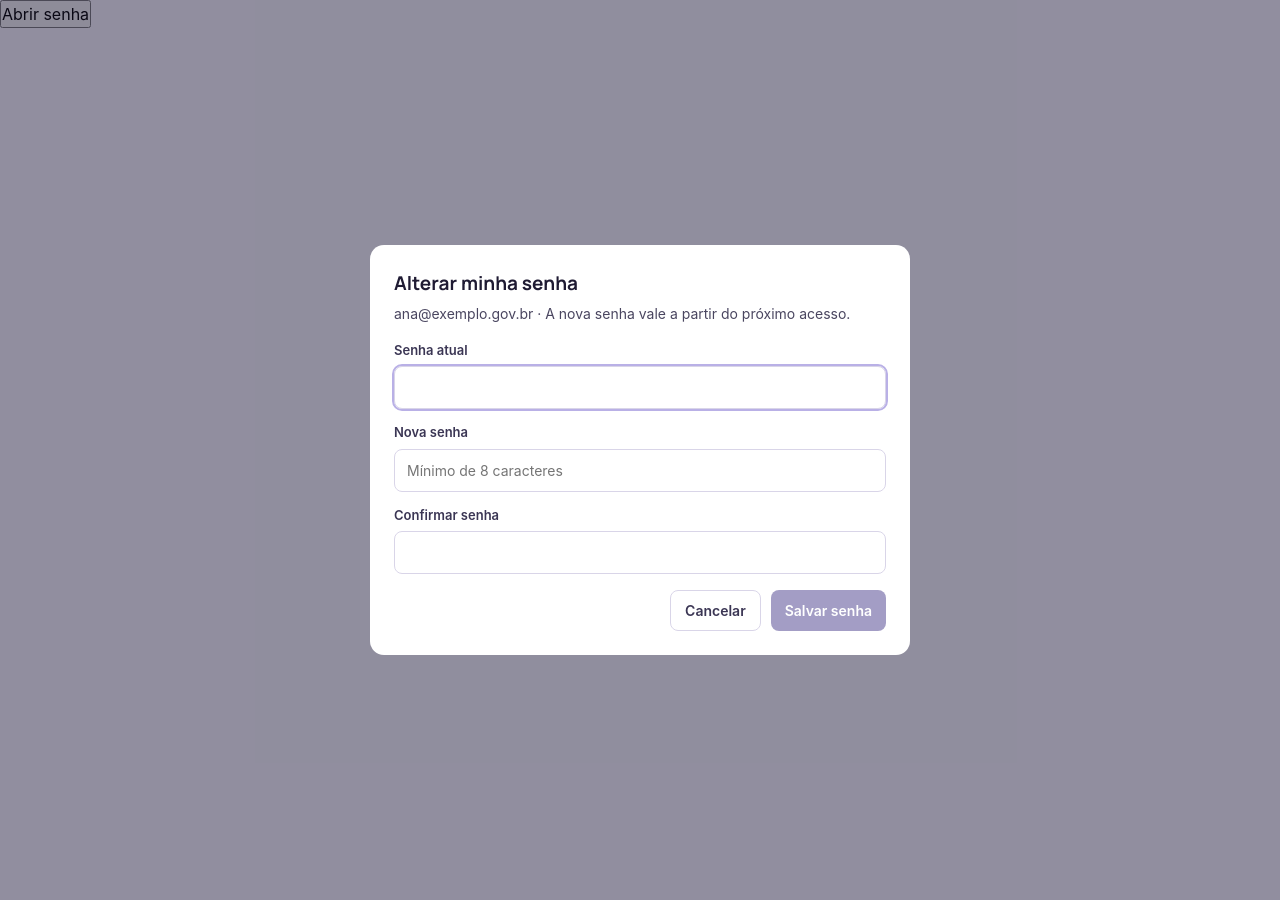
ChangePasswordDialog › fecha e mostra o aviso de sucesso quando a senha é alterada
The image size is (1280, 900).
Step 1. Type "atual-123" into the password field labelled "Senha atual" → (640, 388), box [394, 366, 886, 409]
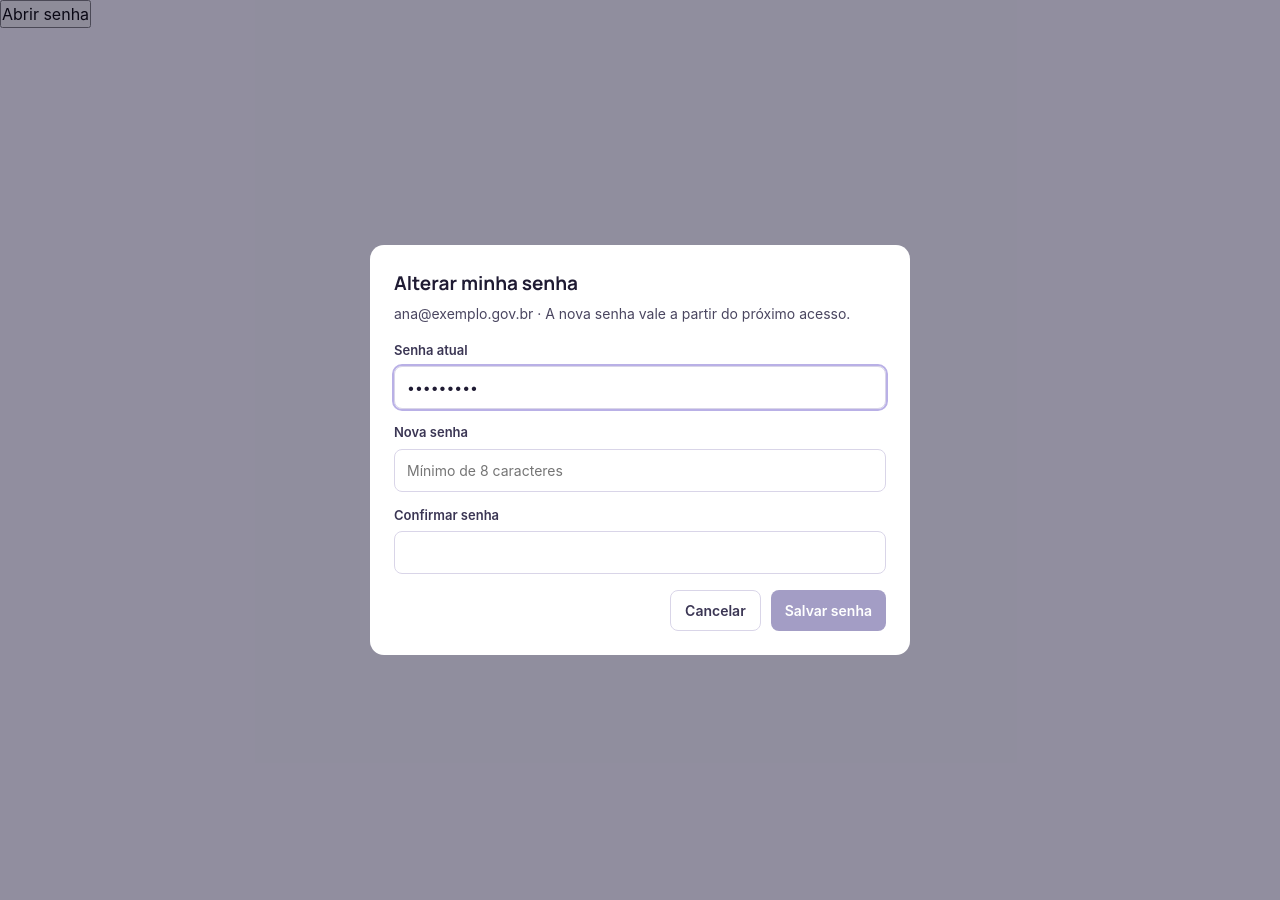
Step 2. Type "nova-senha-123" into the password field labelled "Nova senha" → (640, 470), box [394, 449, 886, 492]
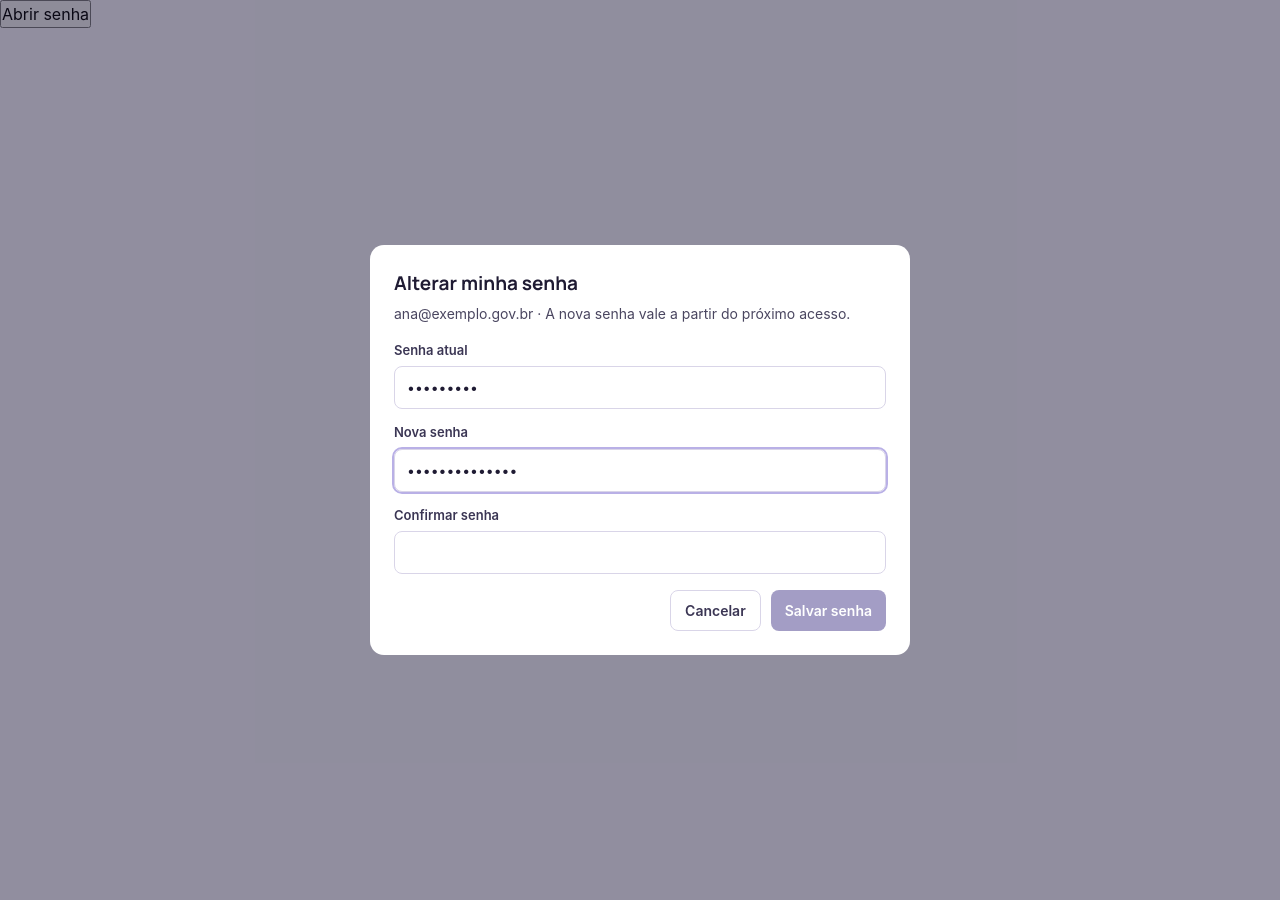
Step 3. Type "nova-senha-123" into the password field labelled "Confirmar senha" → (640, 553), box [394, 531, 886, 574]
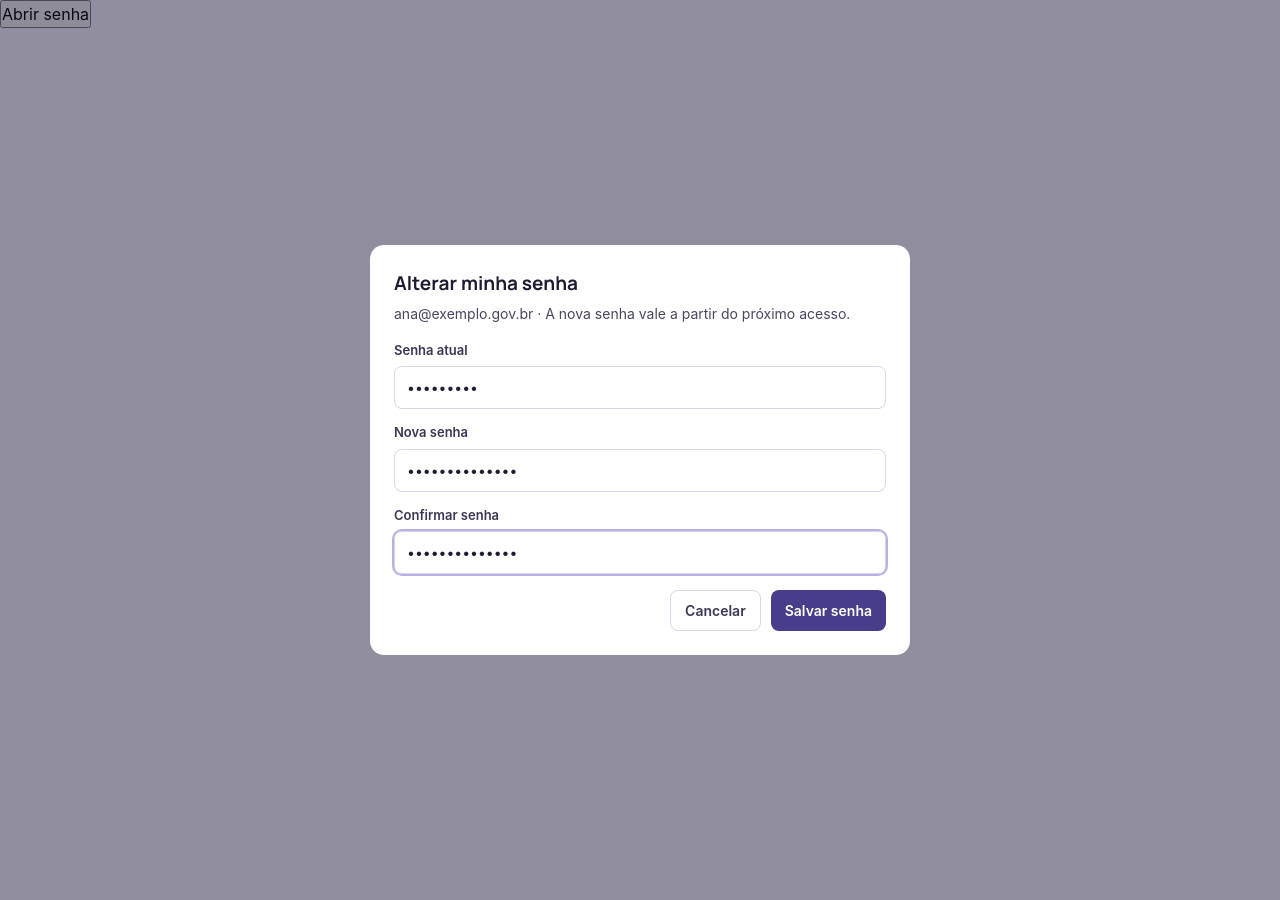
Step 4. Click the button "Salvar senha" → click(828, 611), box [771, 590, 886, 631]
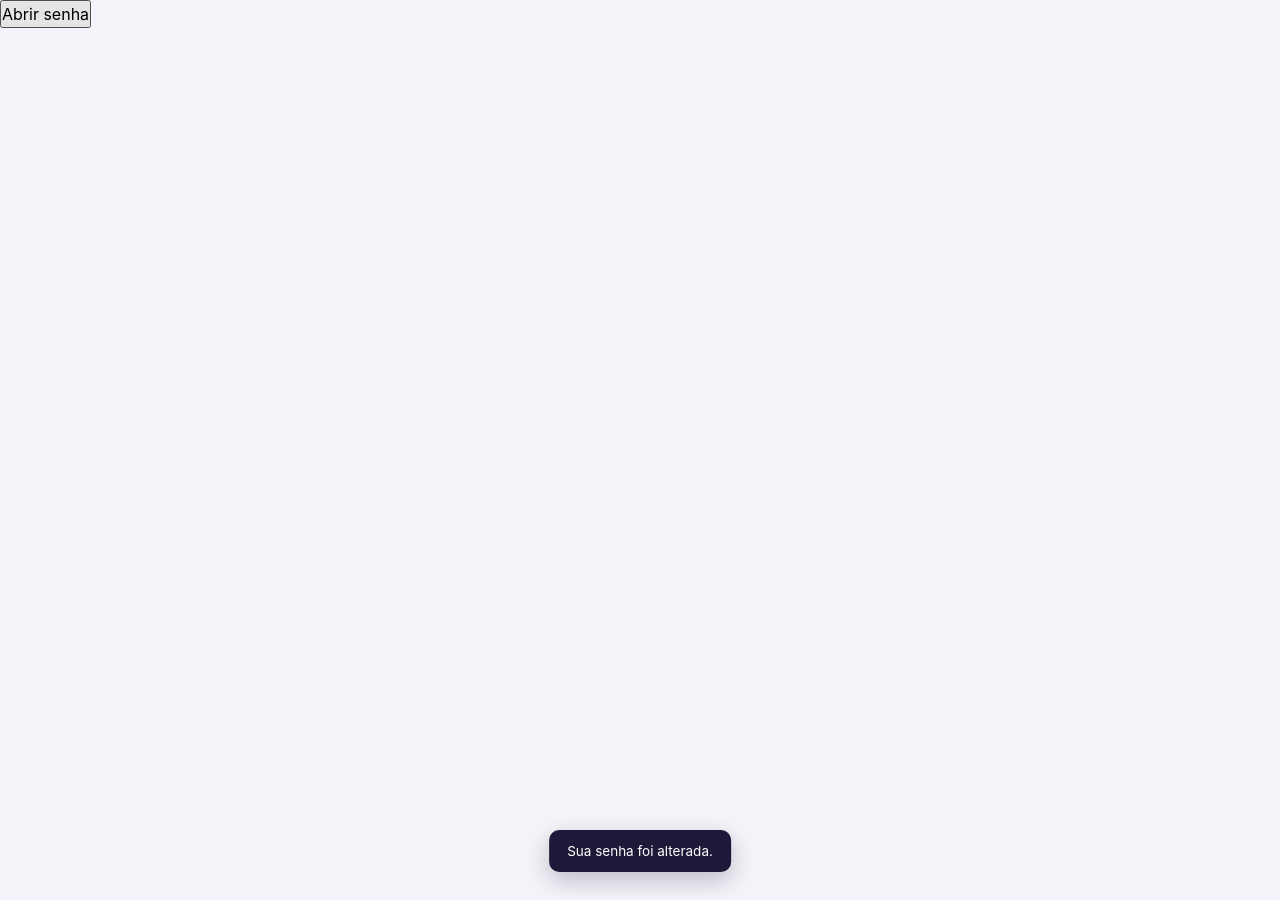
Check: the text "Sua senha foi alterada." is shown, box [549, 830, 731, 872]
Check: the dialog is gone
